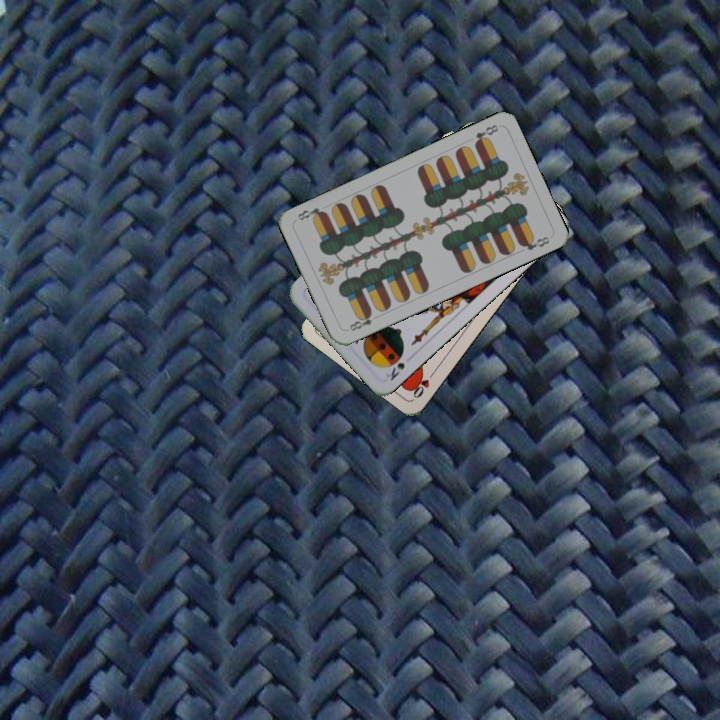E8: (470, 120, 501, 148), (345, 308, 375, 334)
HO: (407, 366, 438, 401)
SK: (382, 351, 407, 384)
